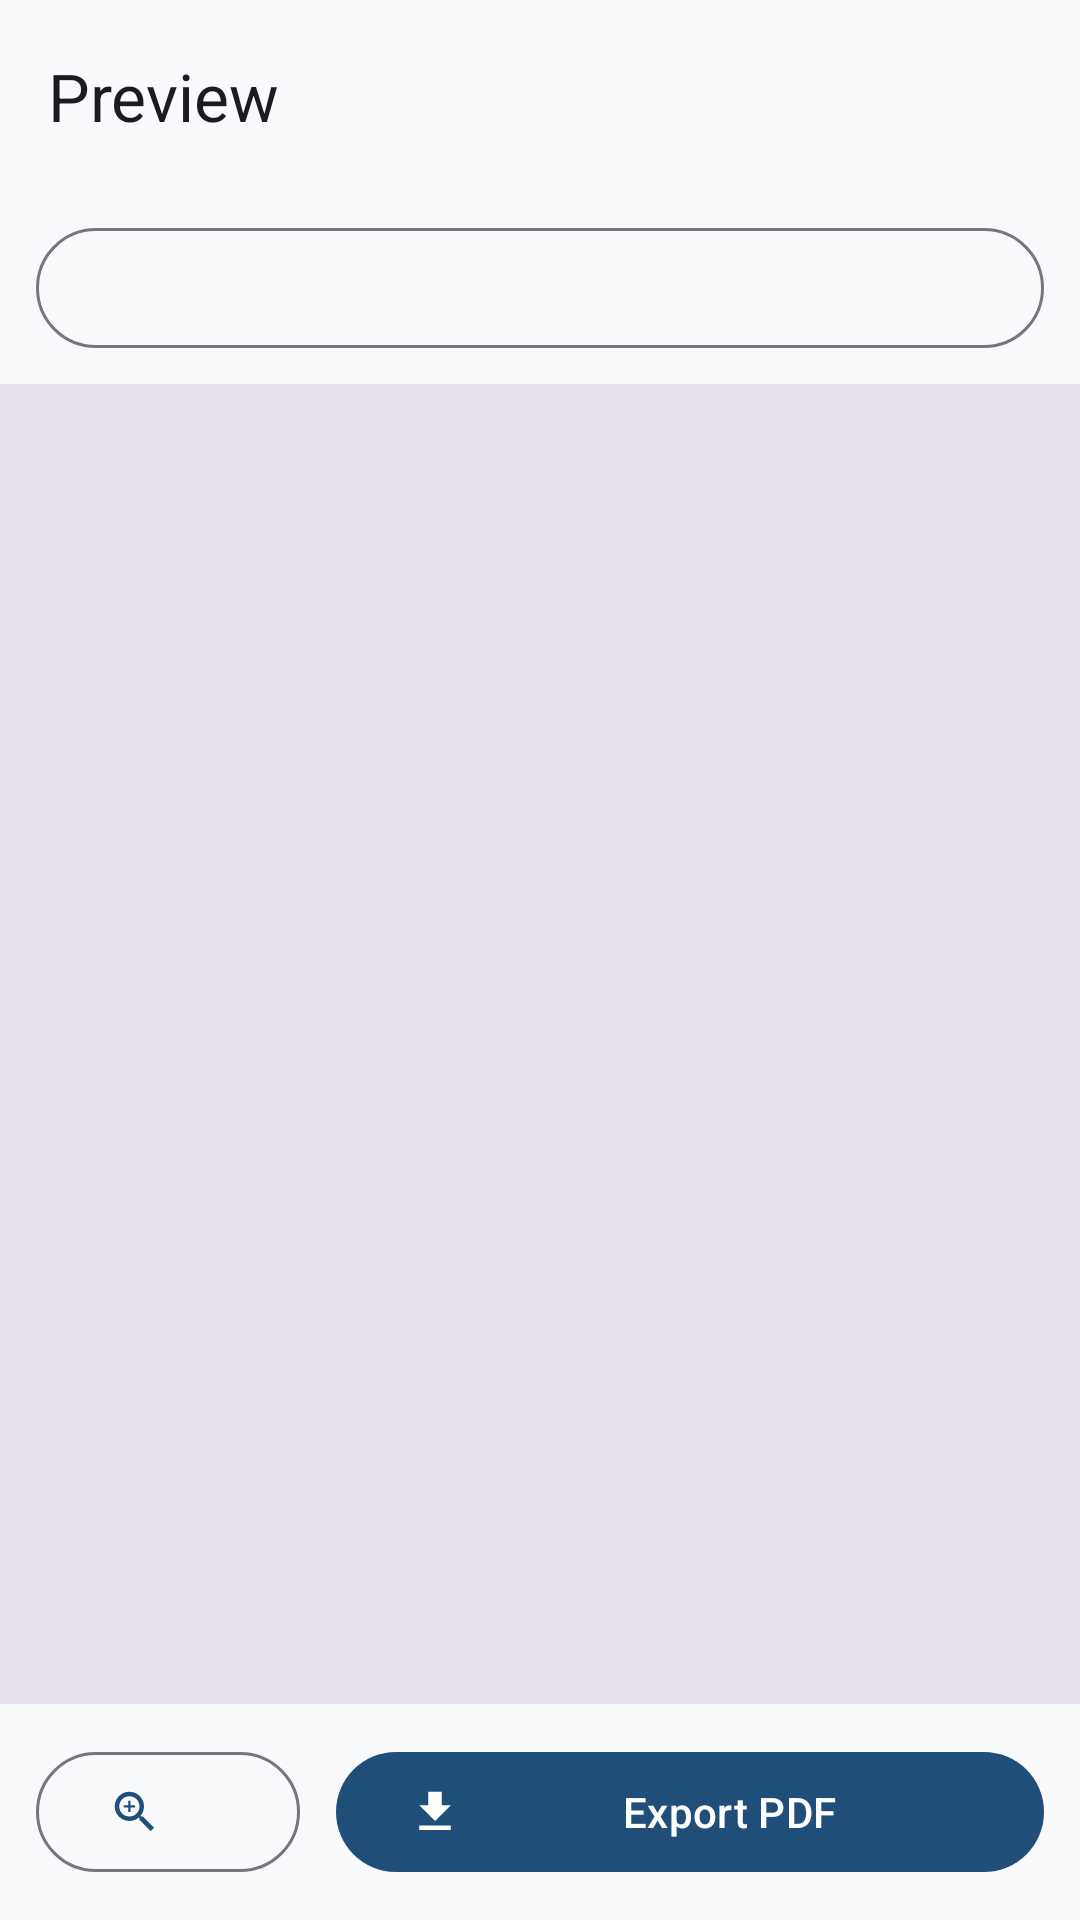

Where icons sit on this 1080px×1920px app screen, as (x1, y1, x2, y2):
zoom in: (36, 1752, 300, 1872)
